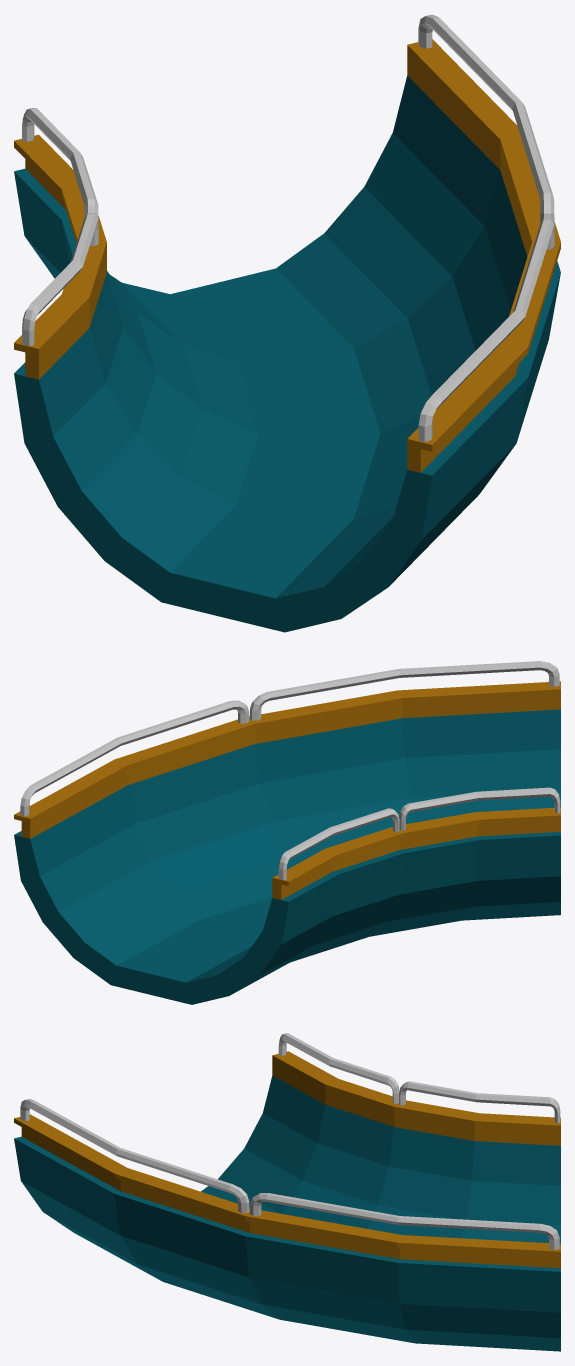
Rendered from halfpipe-curveRight-60_s.FBX.
3 views of the same model, one above another, from view 1: azimuth 30°, elevation 25°; view 2: azimuth 150°, elevation 25°; view 3: azimuth 270°, elevation 25° (orthographic). The views are drawn at different scales.
Parts seen in each view (by area): view 1: halfpipe-curveRight-60_s, wall_l, wall_r; view 2: halfpipe-curveRight-60_s, wall_l, wall_r; view 3: halfpipe-curveRight-60_s, wall_l, wall_r.
Boxes of the visible parts, <box> form: halfpipe-curveRight-60_s: <box>14,75,560,632</box>; wall_l: <box>407,14,560,472</box>; wall_r: <box>14,108,106,379</box>; halfpipe-curveRight-60_s: <box>14,709,560,1004</box>; wall_l: <box>14,661,560,838</box>; wall_r: <box>272,787,560,899</box>; halfpipe-curveRight-60_s: <box>14,1075,560,1351</box>; wall_l: <box>14,1098,560,1268</box>; wall_r: <box>272,1033,560,1145</box>.
Size of what is drawn, in the model's own units: 192 by 221 by 75.73.
